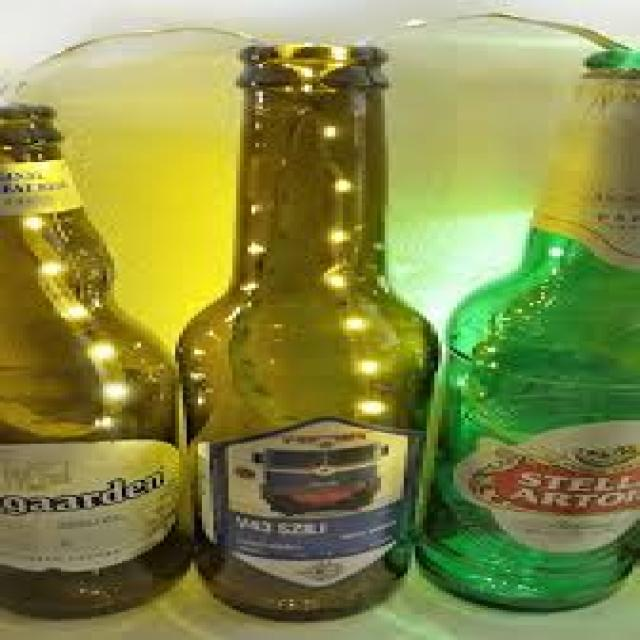glass: (160, 43, 430, 619), (419, 49, 636, 608), (0, 102, 179, 621)
